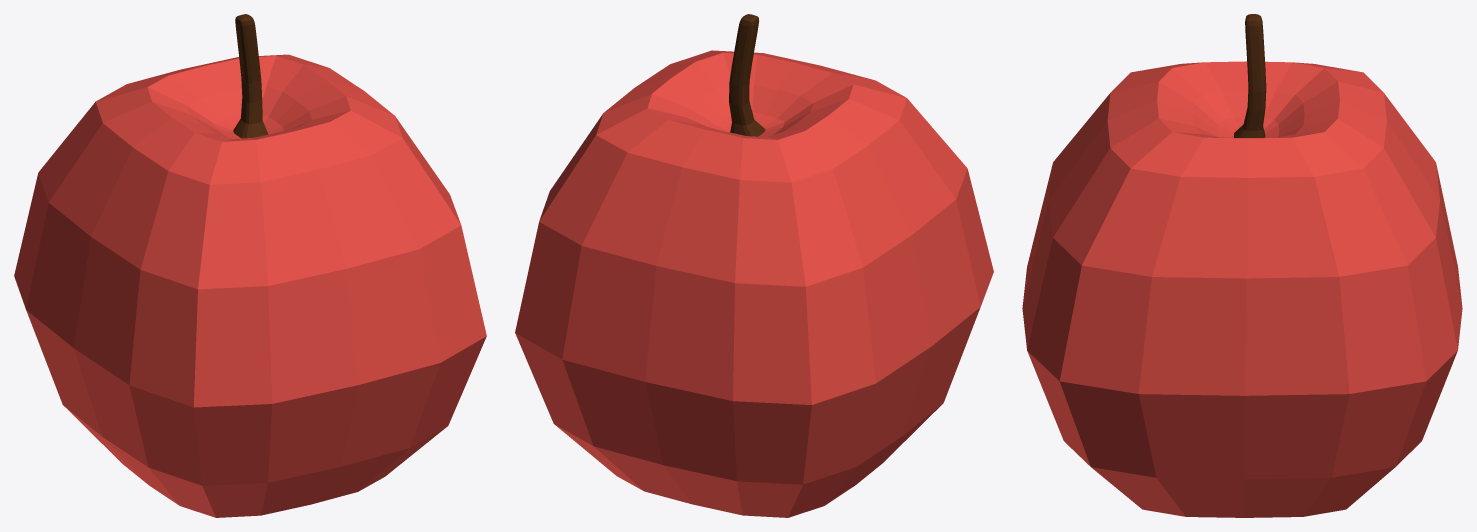
File: manzana.fbx
3 renders of one model, left to right at view 1: azimuth 30°, elevation 25°; view 2: azimuth 150°, elevation 25°; view 3: azimuth 270°, elevation 25°, orthographic. The views are drawn at different scales.
Visible parts, largest first — view 1: manzana; view 2: manzana; view 3: manzana.
Part boxes in pixels (x1,y1,x2,y2): manzana: (14,14,486,517); manzana: (515,14,993,517); manzana: (1022,14,1462,517).
Bounding box in the file's own units: 0.7357 × 0.91 × 0.7816.
